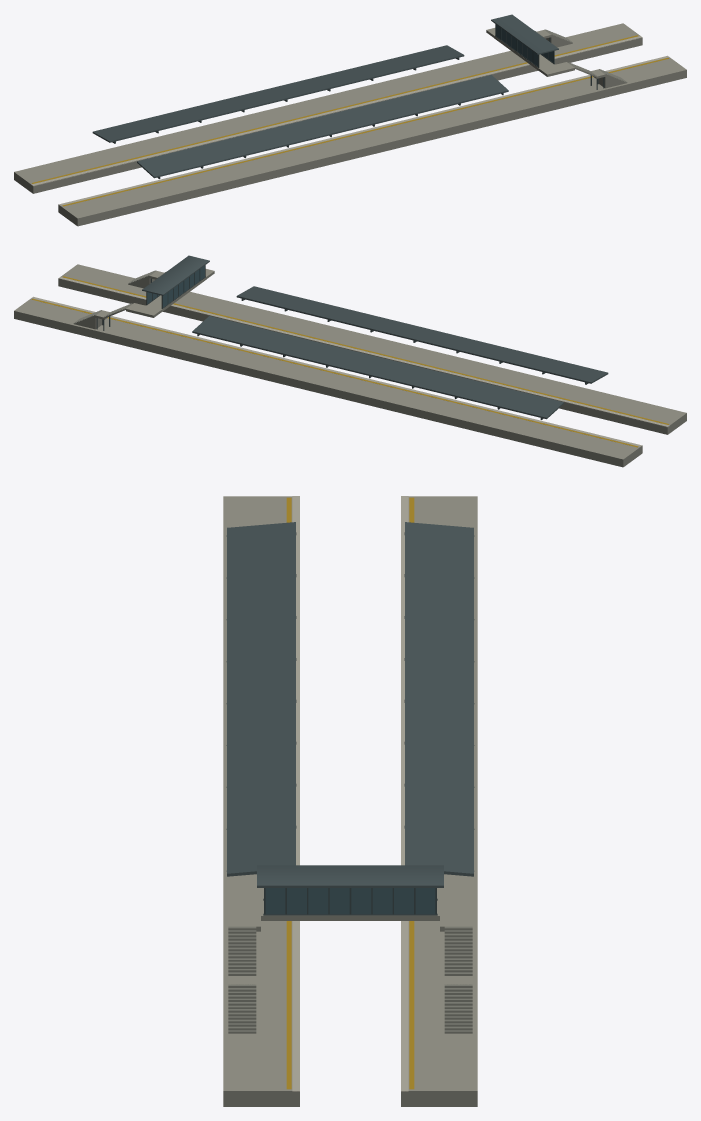
3 renders of one model, top to bottom at view 1: azimuth 30°, elevation 25°; view 2: azimuth 150°, elevation 25°; view 3: azimuth 270°, elevation 25°, orthographic. The views are drawn at different scales.
Visible parts, largest first — view 1: Station without building; view 2: Station without building; view 3: Station without building.
Part boxes in pixels (x1=…): Station without building: x1=14, y1=14, x2=686, y2=226; Station without building: x1=14, y1=255, x2=686, y2=467; Station without building: x1=223, y1=496, x2=477, y2=1106.
Size of the model in its own units: 110 by 9 by 19.9.
